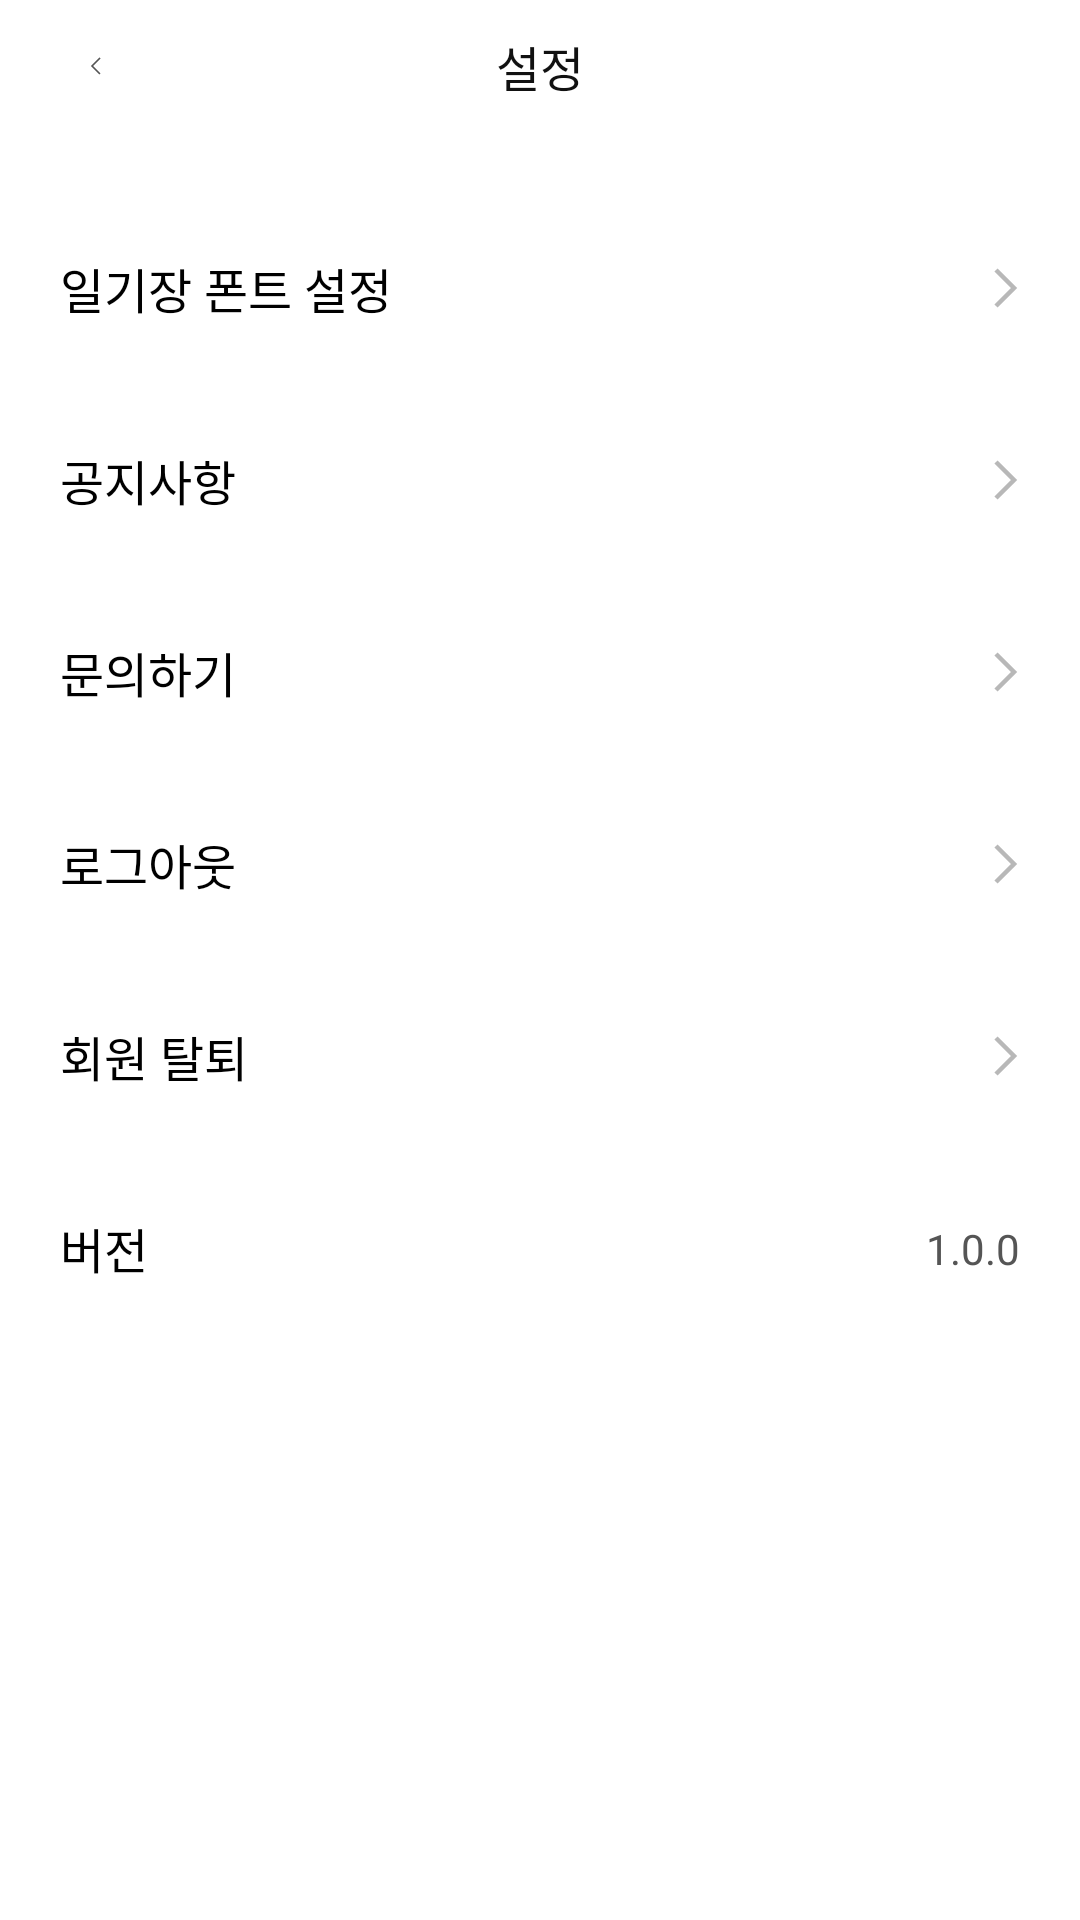

Icon click points for this 1080×1920 phone screenshot, format (x,y):
forward: (1006,288), (1006,480), (1006,672), (1006,864), (1006,1056)
